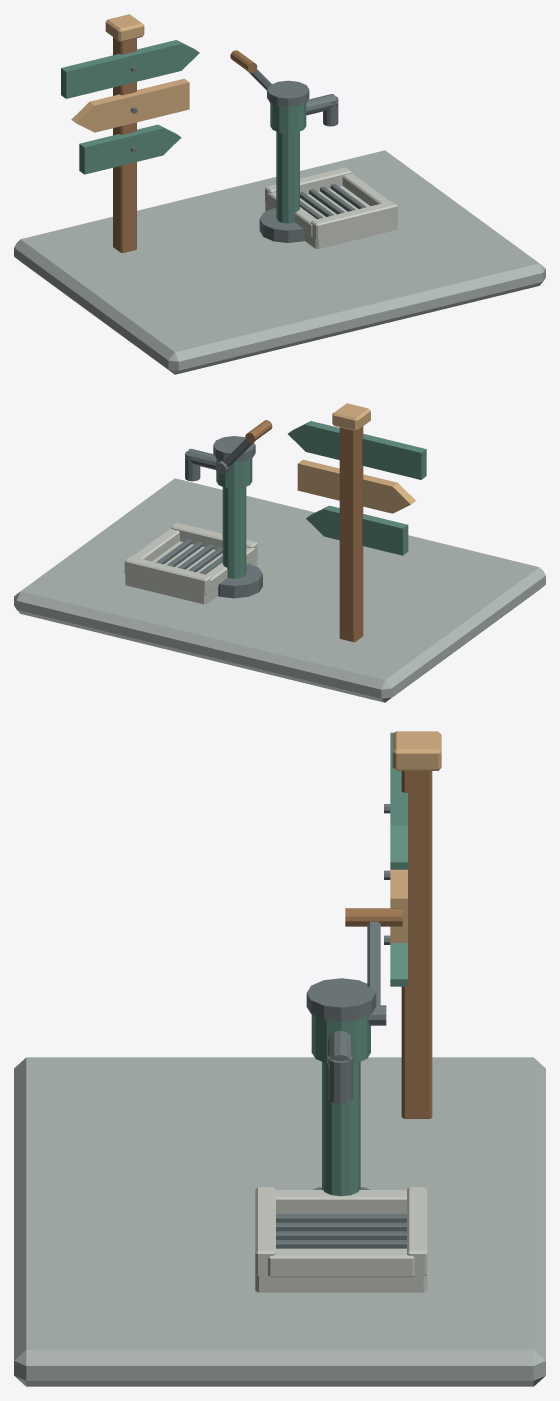
3 views of the same model, one above another, from view 1: azimuth 30°, elevation 25°; view 2: azimuth 150°, elevation 25°; view 3: azimuth 270°, elevation 25° (orthographic). The views are drawn at different scales.
Visible parts, largest first — view 1: village-water-point-01; view 2: village-water-point-01; view 3: village-water-point-01.
Boxes of the visible parts, left/top/right/bottom form: village-water-point-01: left=14, top=14, right=545, bottom=374; village-water-point-01: left=14, top=403, right=545, bottom=702; village-water-point-01: left=14, top=731, right=545, bottom=1386.
Size of the model in its own units: 3.5 by 2.21 by 2.6.
